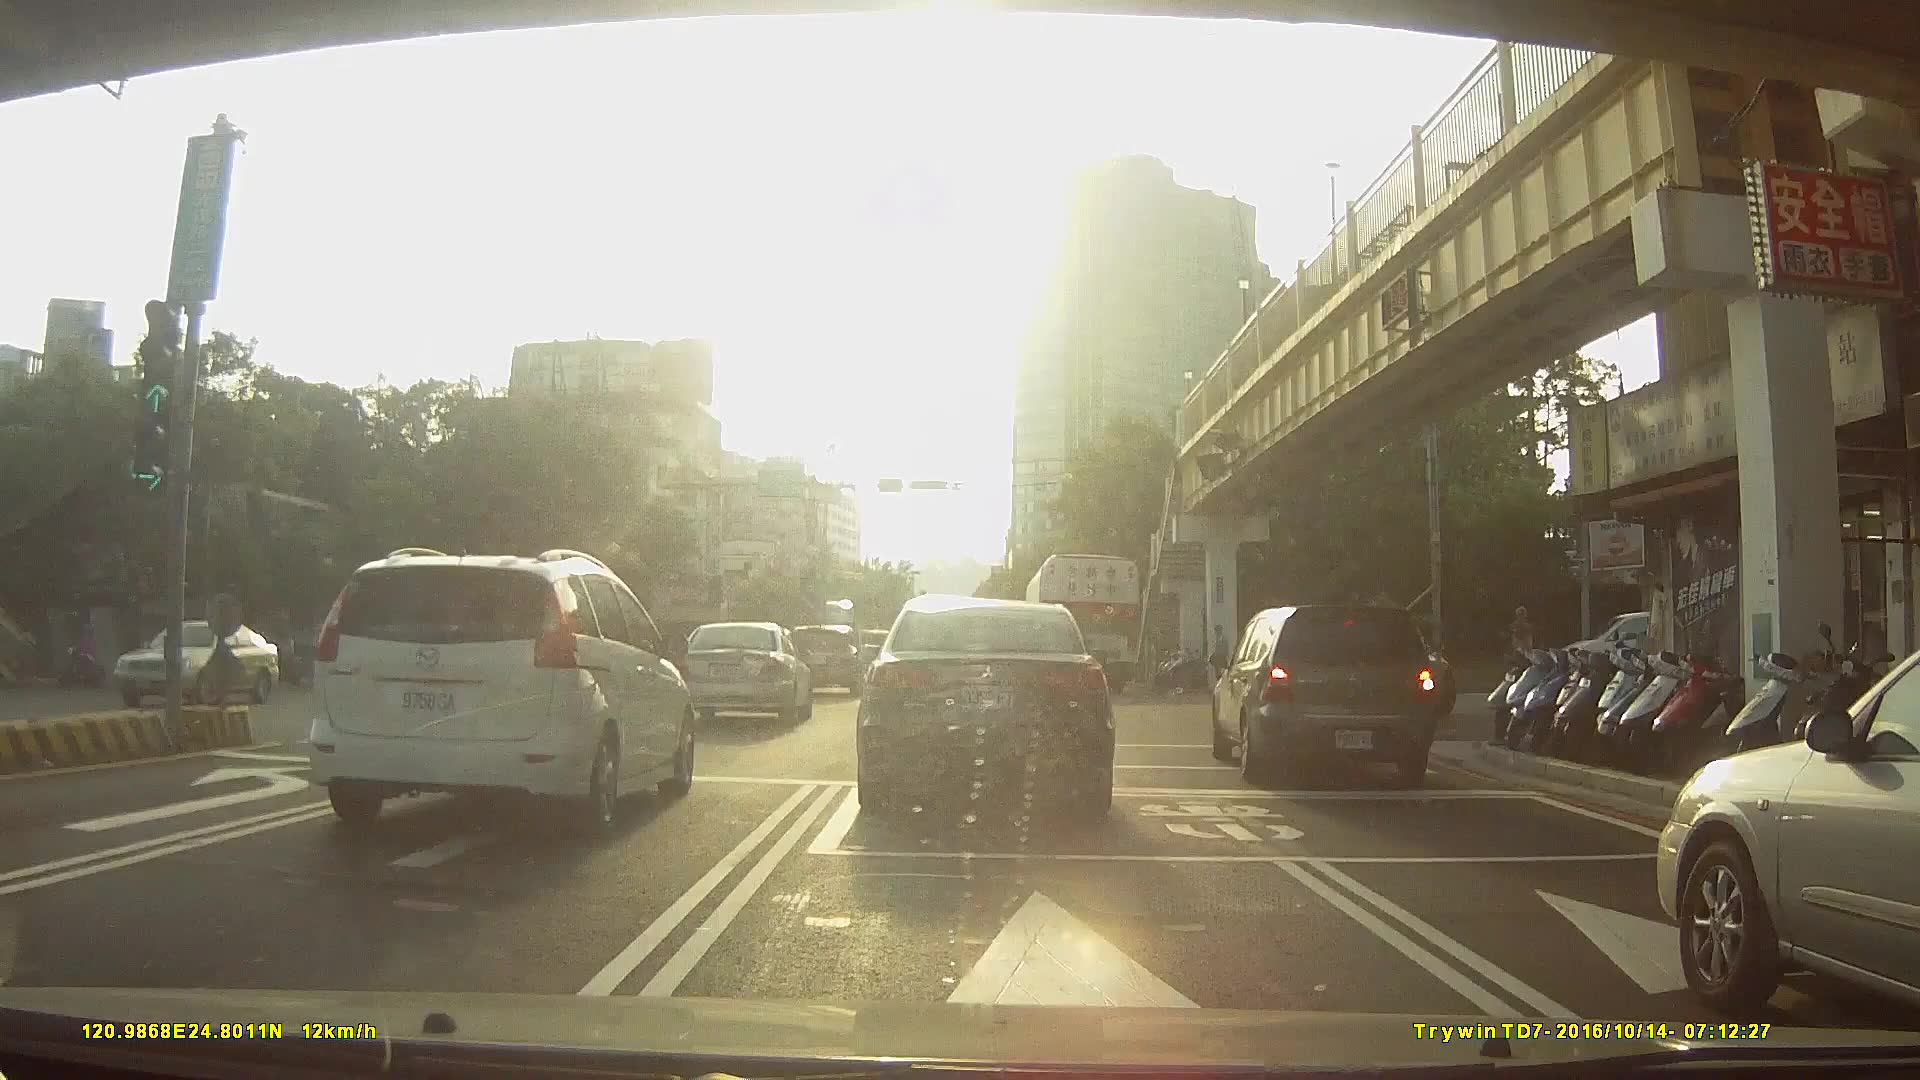pedestrian: (1210, 622, 1236, 687)
vehicle: (308, 544, 696, 831), (1658, 649, 1920, 1019), (854, 590, 1115, 821), (1207, 600, 1448, 790), (1026, 556, 1144, 697), (111, 620, 294, 709), (680, 622, 816, 728), (782, 624, 865, 699)
